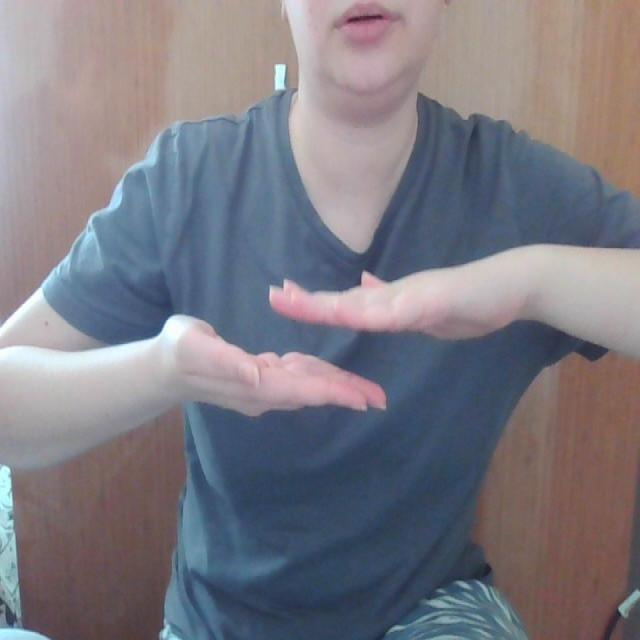Arkadas: (1, 241, 640, 428)
